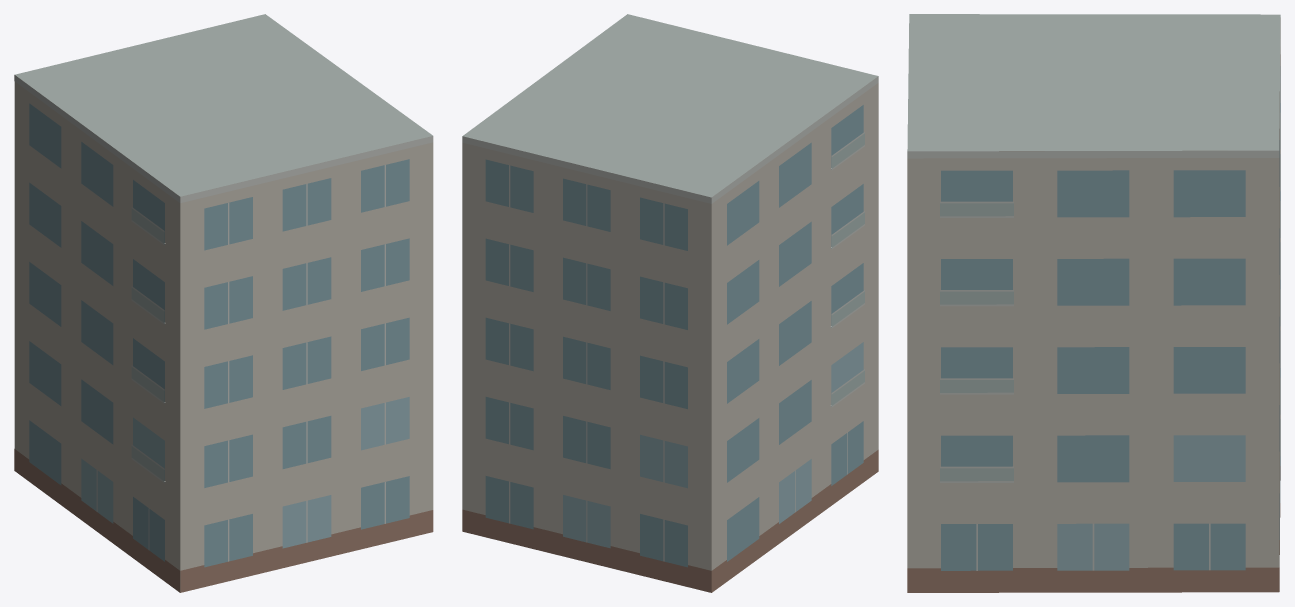
The model's file is survey-upis-32512620.glb.
3 renders of one model, left to right at view 1: azimuth 30°, elevation 25°; view 2: azimuth 150°, elevation 25°; view 3: azimuth 270°, elevation 25°, orthographic. The views are drawn at different scales.
Parts seen in each view (by area): view 1: survey-upis-32512620.tmp; view 2: survey-upis-32512620.tmp; view 3: survey-upis-32512620.tmp.
Boxes of the visible parts, left/top/right/bottom form: survey-upis-32512620.tmp: left=14, top=14, right=433, bottom=592; survey-upis-32512620.tmp: left=462, top=14, right=878, bottom=592; survey-upis-32512620.tmp: left=907, top=14, right=1280, bottom=592.
Size of the model in its own units: 10 by 14.9 by 11.42.
